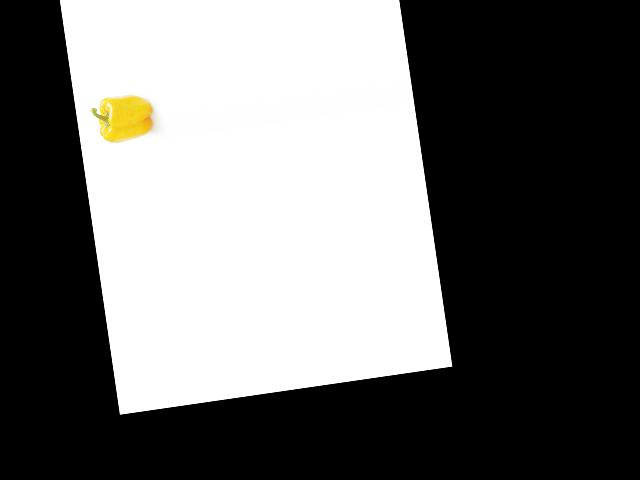bell_pepper: (85, 85, 156, 146)
